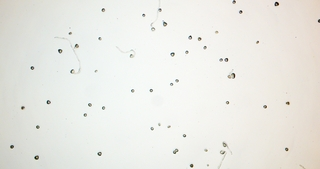germinated: (218, 148, 228, 160), (68, 67, 80, 75), (150, 20, 157, 32), (221, 140, 230, 149), (128, 50, 136, 59), (227, 70, 232, 79)
nongerminated: (33, 154, 41, 162), (56, 47, 64, 54), (272, 0, 279, 7), (237, 8, 244, 15), (284, 100, 291, 107), (186, 33, 193, 40), (161, 20, 168, 27), (183, 48, 190, 55), (180, 132, 187, 139), (129, 87, 136, 94), (96, 36, 103, 43), (73, 42, 80, 49), (100, 104, 107, 111), (96, 149, 103, 156), (45, 98, 52, 105), (34, 123, 41, 130), (262, 103, 268, 110), (283, 145, 290, 151), (224, 56, 230, 63), (218, 55, 224, 62), (214, 29, 220, 36), (202, 43, 208, 50), (156, 6, 163, 12), (224, 99, 231, 105), (169, 51, 176, 57), (168, 80, 174, 87), (141, 11, 147, 18), (100, 6, 106, 13), (86, 101, 93, 107), (196, 35, 202, 41), (188, 162, 194, 168), (174, 77, 180, 83), (149, 125, 155, 131), (148, 87, 154, 93), (67, 30, 73, 36), (82, 111, 88, 117), (29, 65, 35, 71), (9, 143, 15, 149), (230, 0, 237, 5), (231, 71, 236, 78), (204, 147, 209, 154), (254, 40, 260, 45), (172, 149, 177, 155), (166, 123, 172, 128), (20, 105, 25, 111), (174, 146, 179, 151), (156, 121, 161, 126)
